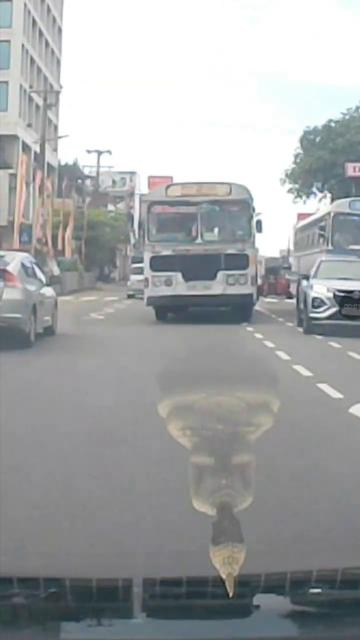illegal overtaking: (144, 171, 269, 323)
